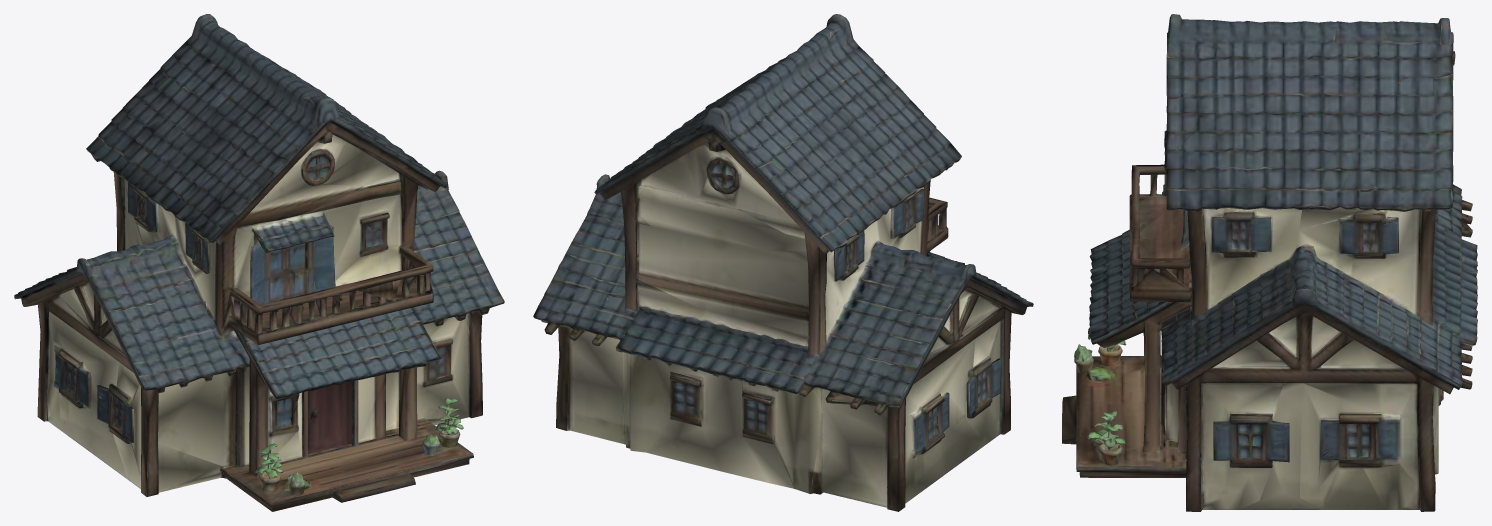
The model's file is house_a.glb.
The picture shows the model from 3 angles, left to right: view 1: azimuth 30°, elevation 25°; view 2: azimuth 150°, elevation 25°; view 3: azimuth 270°, elevation 25°; orthographic projection. The views are drawn at different scales.
Parts seen in each view (by area): view 1: Mesh_0; view 2: Mesh_0; view 3: Mesh_0.
Part boxes in pixels (left/top/right/bottom): Mesh_0: left=14, top=14, right=504, bottom=511; Mesh_0: left=533, top=14, right=1033, bottom=511; Mesh_0: left=1062, top=14, right=1477, bottom=511.
Size of the model in its own units: 1.91 by 1.84 by 1.68.
Materials: 1 (1 with a texture image).
